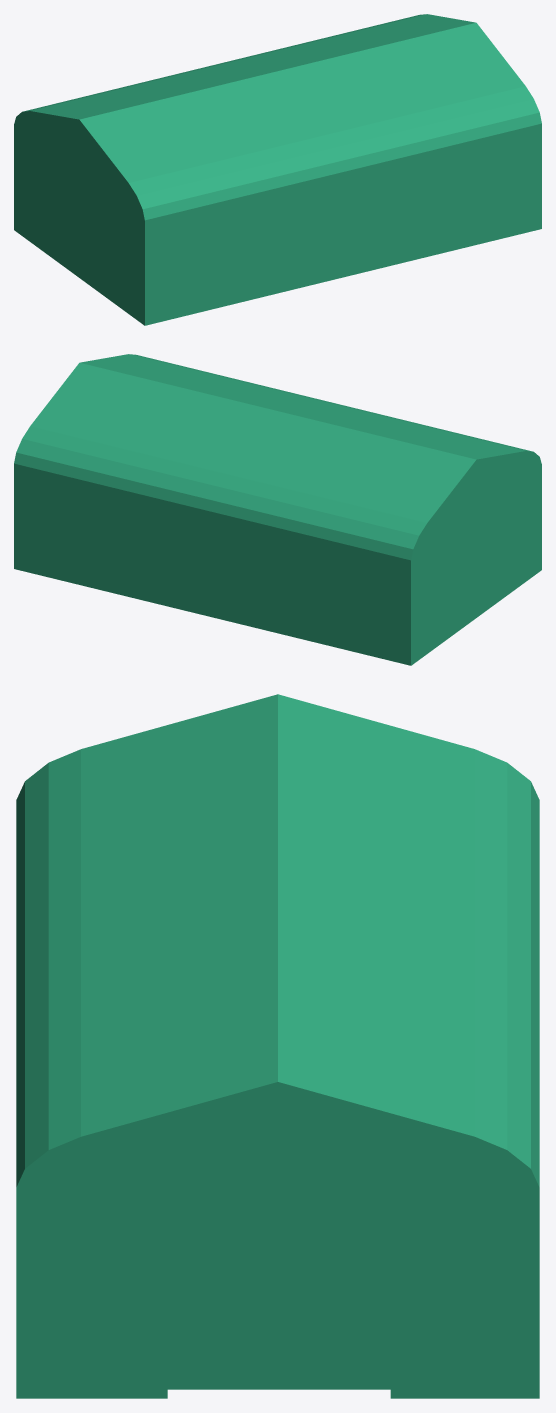
File: Building_z8.fbx
The picture shows the model from 3 angles, top to bottom: view 1: azimuth 30°, elevation 25°; view 2: azimuth 150°, elevation 25°; view 3: azimuth 270°, elevation 25°; orthographic projection. The views are drawn at different scales.
Parts seen in each view (by area): view 1: Building_z8; view 2: Building_z8; view 3: Building_z8.
Boxes of the visible parts, left/top/right/bottom form: Building_z8: left=14, top=14, right=541, bottom=325; Building_z8: left=14, top=354, right=541, bottom=665; Building_z8: left=16, top=694, right=539, bottom=1398.
Bounding box in the file's own units: 16.45 × 6.27 × 9.39.
